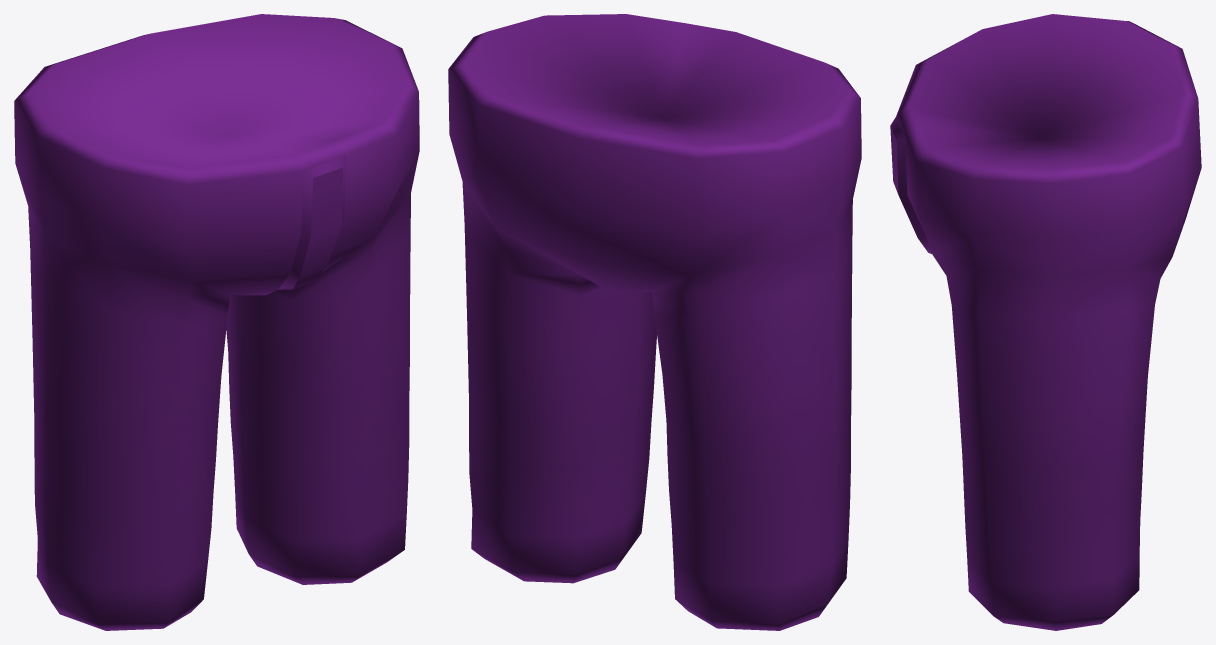
File: Bottom_31.fbx
The picture shows the model from 3 angles, left to right: view 1: azimuth 30°, elevation 25°; view 2: azimuth 150°, elevation 25°; view 3: azimuth 270°, elevation 25°; orthographic projection. The views are drawn at different scales.
Parts seen in each view (by area): view 1: Bottom_31; view 2: Bottom_31; view 3: Bottom_31.
Boxes of the visible parts, box(x1,y1,x2,y2) form: Bottom_31: box(14, 14, 419, 630); Bottom_31: box(448, 14, 861, 630); Bottom_31: box(890, 14, 1201, 630).
Size of the model in its own units: 38.53 by 50.18 by 30.23.
